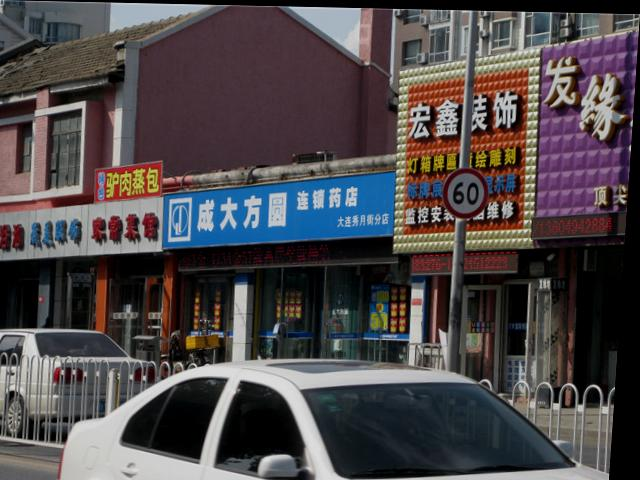limit60: (445, 162, 491, 219)
